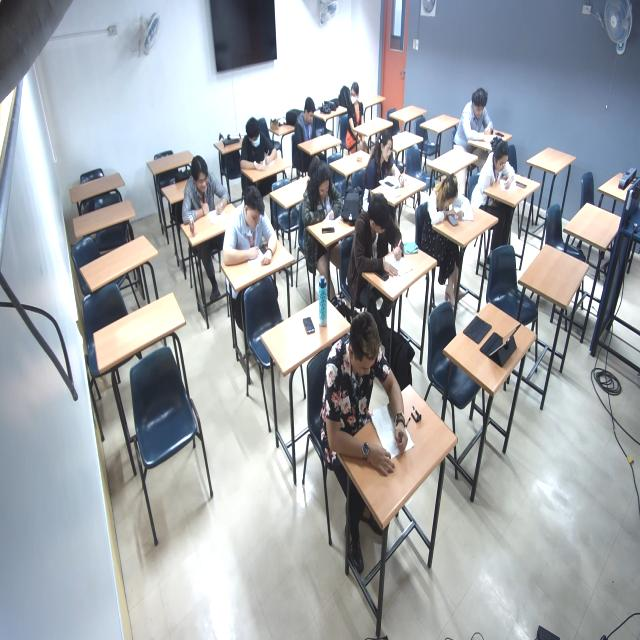read: (328, 325, 436, 487), (356, 201, 416, 294), (220, 197, 280, 281), (180, 160, 233, 233), (305, 161, 346, 236), (236, 116, 282, 181), (429, 171, 472, 236), (460, 87, 501, 152), (367, 137, 410, 192), (484, 143, 518, 201)
